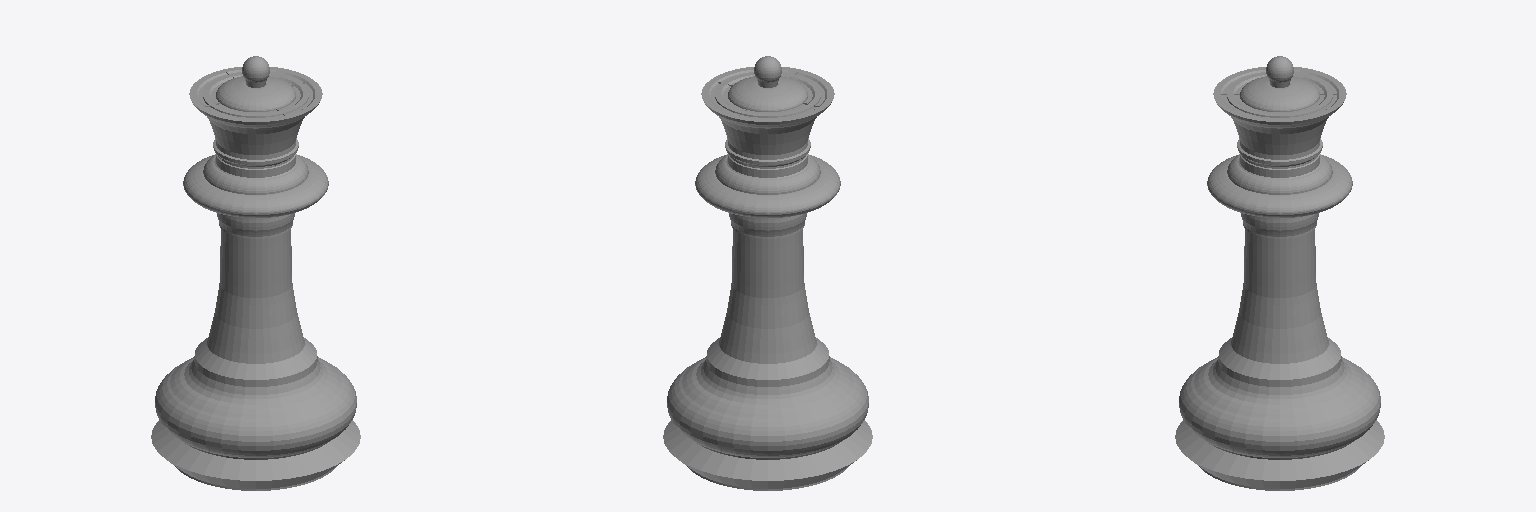
File: Queen.obj
3 renders of one model, left to right at view 1: azimuth 30°, elevation 25°; view 2: azimuth 150°, elevation 25°; view 3: azimuth 270°, elevation 25°, orthographic.
Visible parts, largest first — view 1: Plane; view 2: Plane; view 3: Plane.
Part boxes in pixels (x1,y1,x2,y2): Plane: (151, 56, 360, 490); Plane: (663, 56, 872, 490); Plane: (1175, 56, 1384, 490).
Bounding box in the file's own units: 9.76 × 20.4 × 9.76.